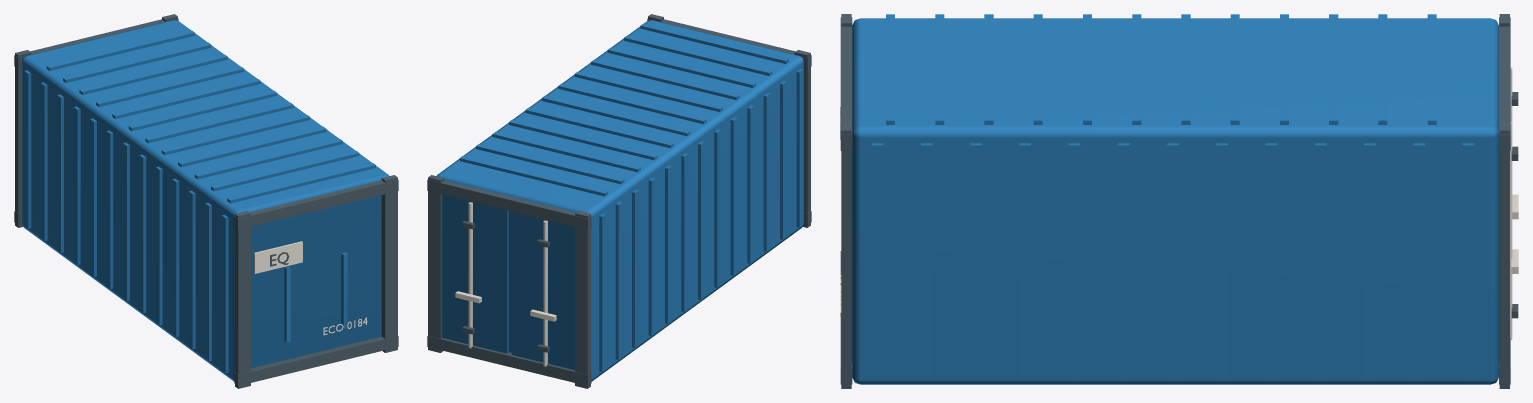
The model's file is container-blue.glb.
3 views of the same model, side by side, from view 1: azimuth 30°, elevation 25°; view 2: azimuth 150°, elevation 25°; view 3: azimuth 270°, elevation 25° (orthographic). The views are drawn at different scales.
Parts seen in each view (by area): view 1: freight container, corner casting, locking bar; view 2: freight container, corner casting, locking bar; view 3: freight container, corner casting, locking bar.
Boxes of the visible parts, bbox=[...] form: freight container: bbox=[22, 20, 388, 381]; corner casting: bbox=[14, 14, 398, 388]; locking bar: bbox=[254, 241, 367, 335]; freight container: bbox=[437, 20, 803, 381]; corner casting: bbox=[427, 14, 811, 388]; locking bar: bbox=[455, 202, 556, 366]; freight container: bbox=[851, 14, 1499, 384]; corner casting: bbox=[840, 14, 1518, 388]; locking bar: bbox=[840, 67, 1518, 339].
Size of the model in its own units: 1.1 by 1.12 by 2.62.
